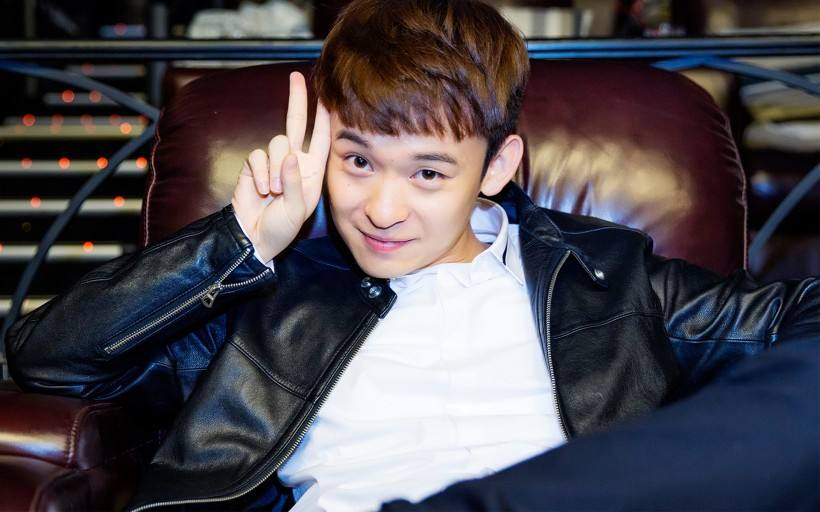person: (193, 1, 675, 349)
